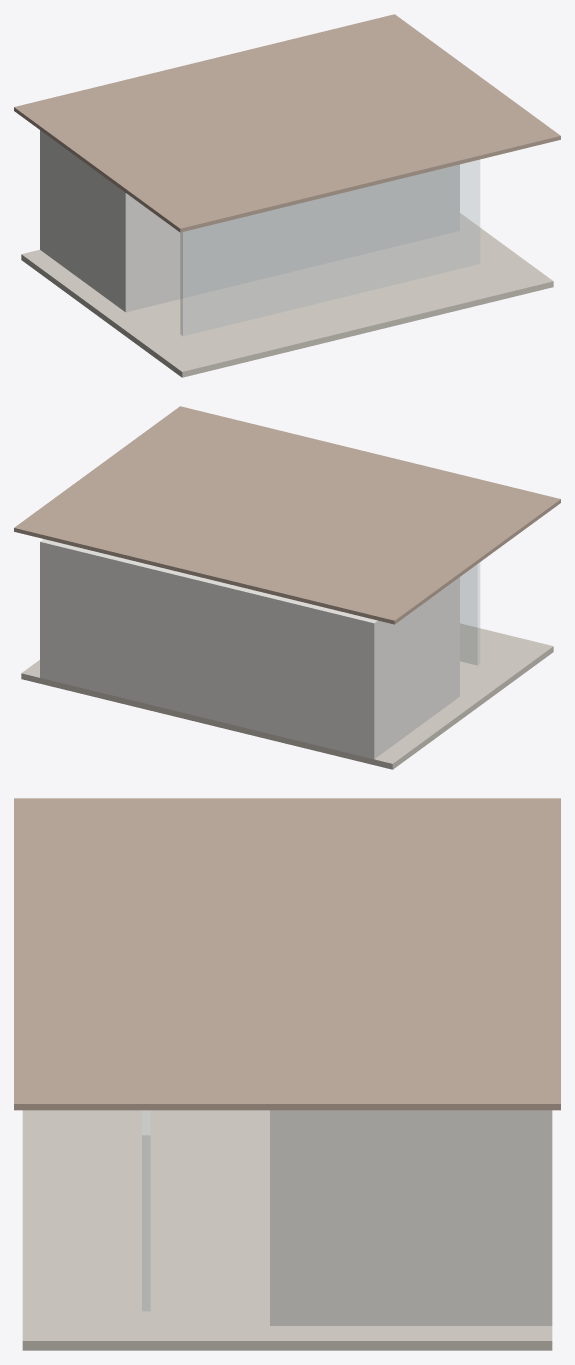
The model's file is restaurant-terrace.glb.
3 renders of one model, top to bottom at view 1: azimuth 30°, elevation 25°; view 2: azimuth 150°, elevation 25°; view 3: azimuth 270°, elevation 25°, orthographic. The views are drawn at different scales.
Visible parts, largest first — view 1: spatial-root; view 2: spatial-root; view 3: spatial-root.
Part boxes in pixels (<box>): spatial-root: <box>14,14,560,377</box>; spatial-root: <box>14,406,560,769</box>; spatial-root: <box>14,798,560,1350</box>.
Bounding box in the file's own units: 8.2 × 3.13 × 6.2.
